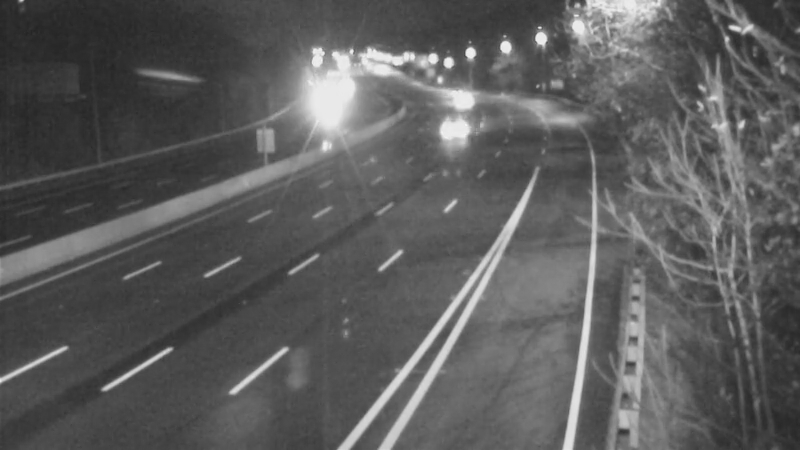vehicle: (428, 66, 478, 116), (437, 76, 487, 126), (425, 102, 475, 152), (301, 87, 351, 137)
